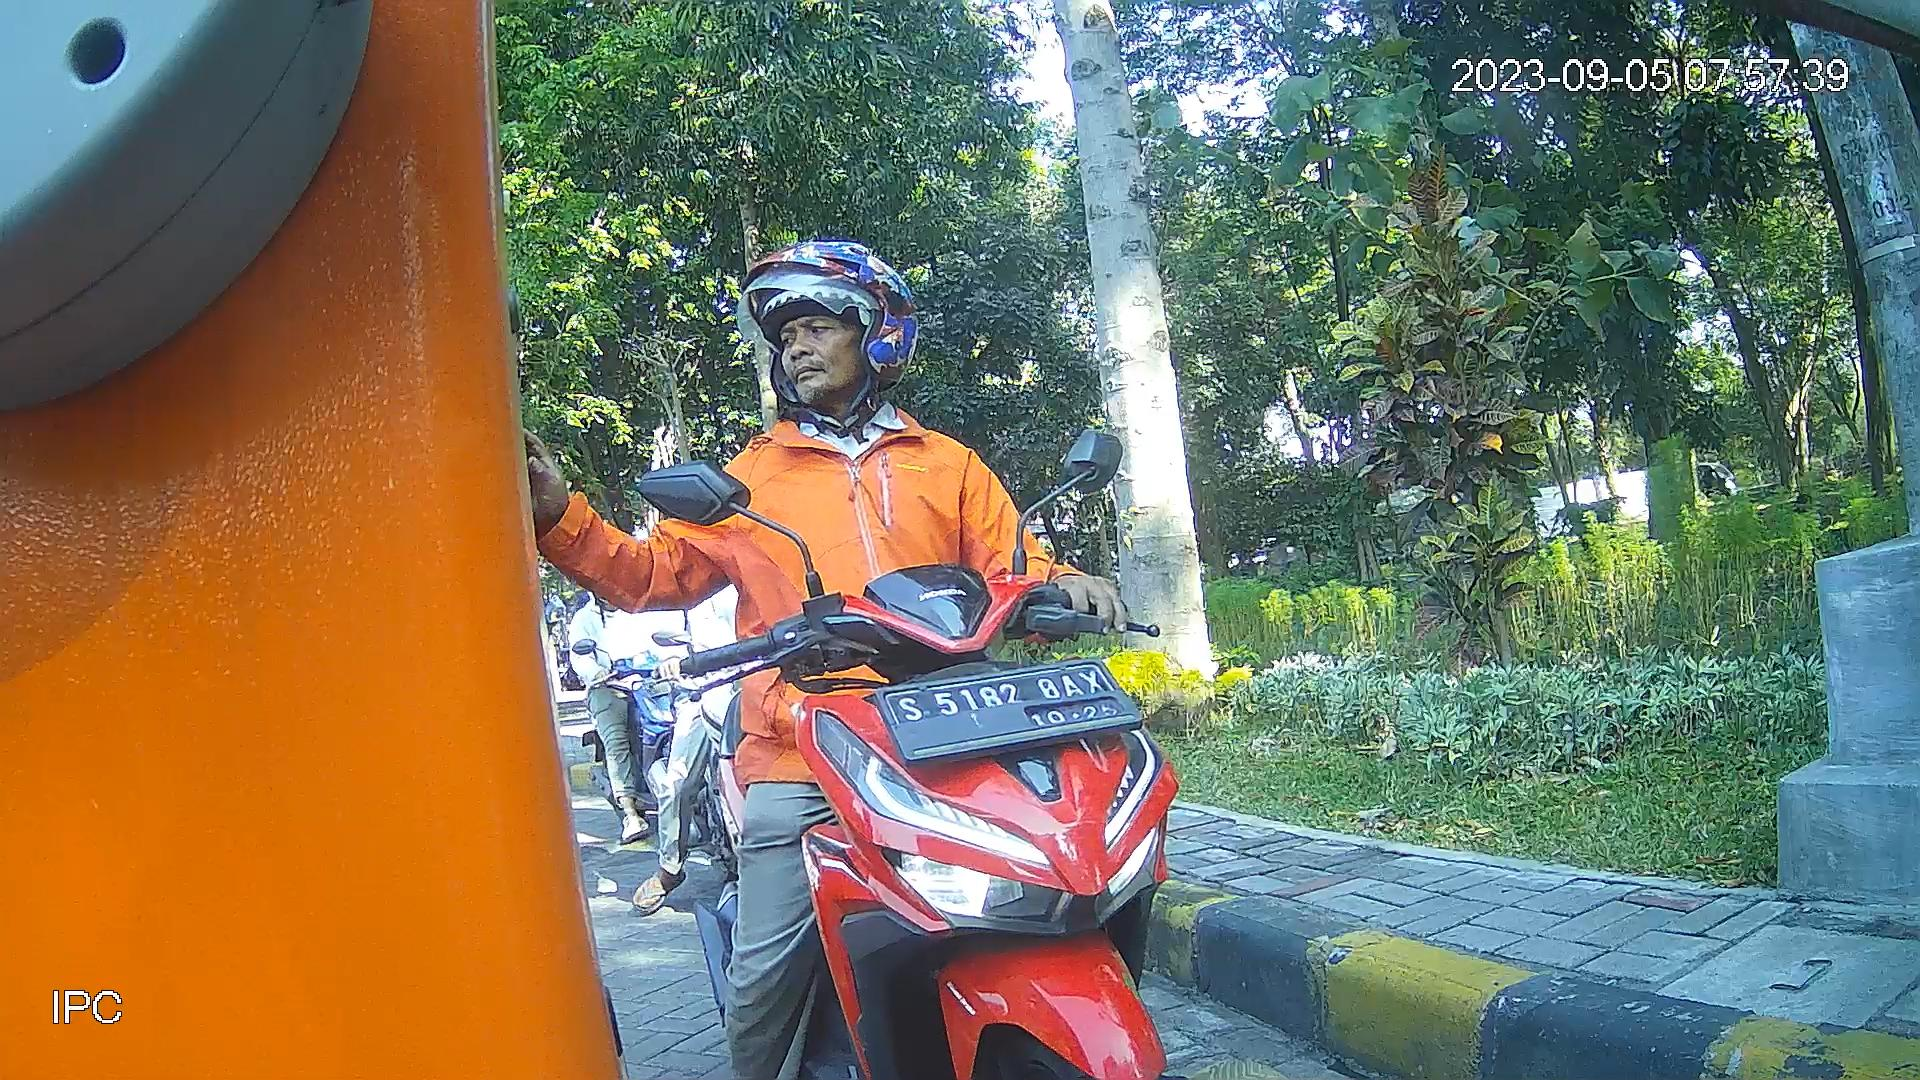plat: (869, 655, 1150, 767)
